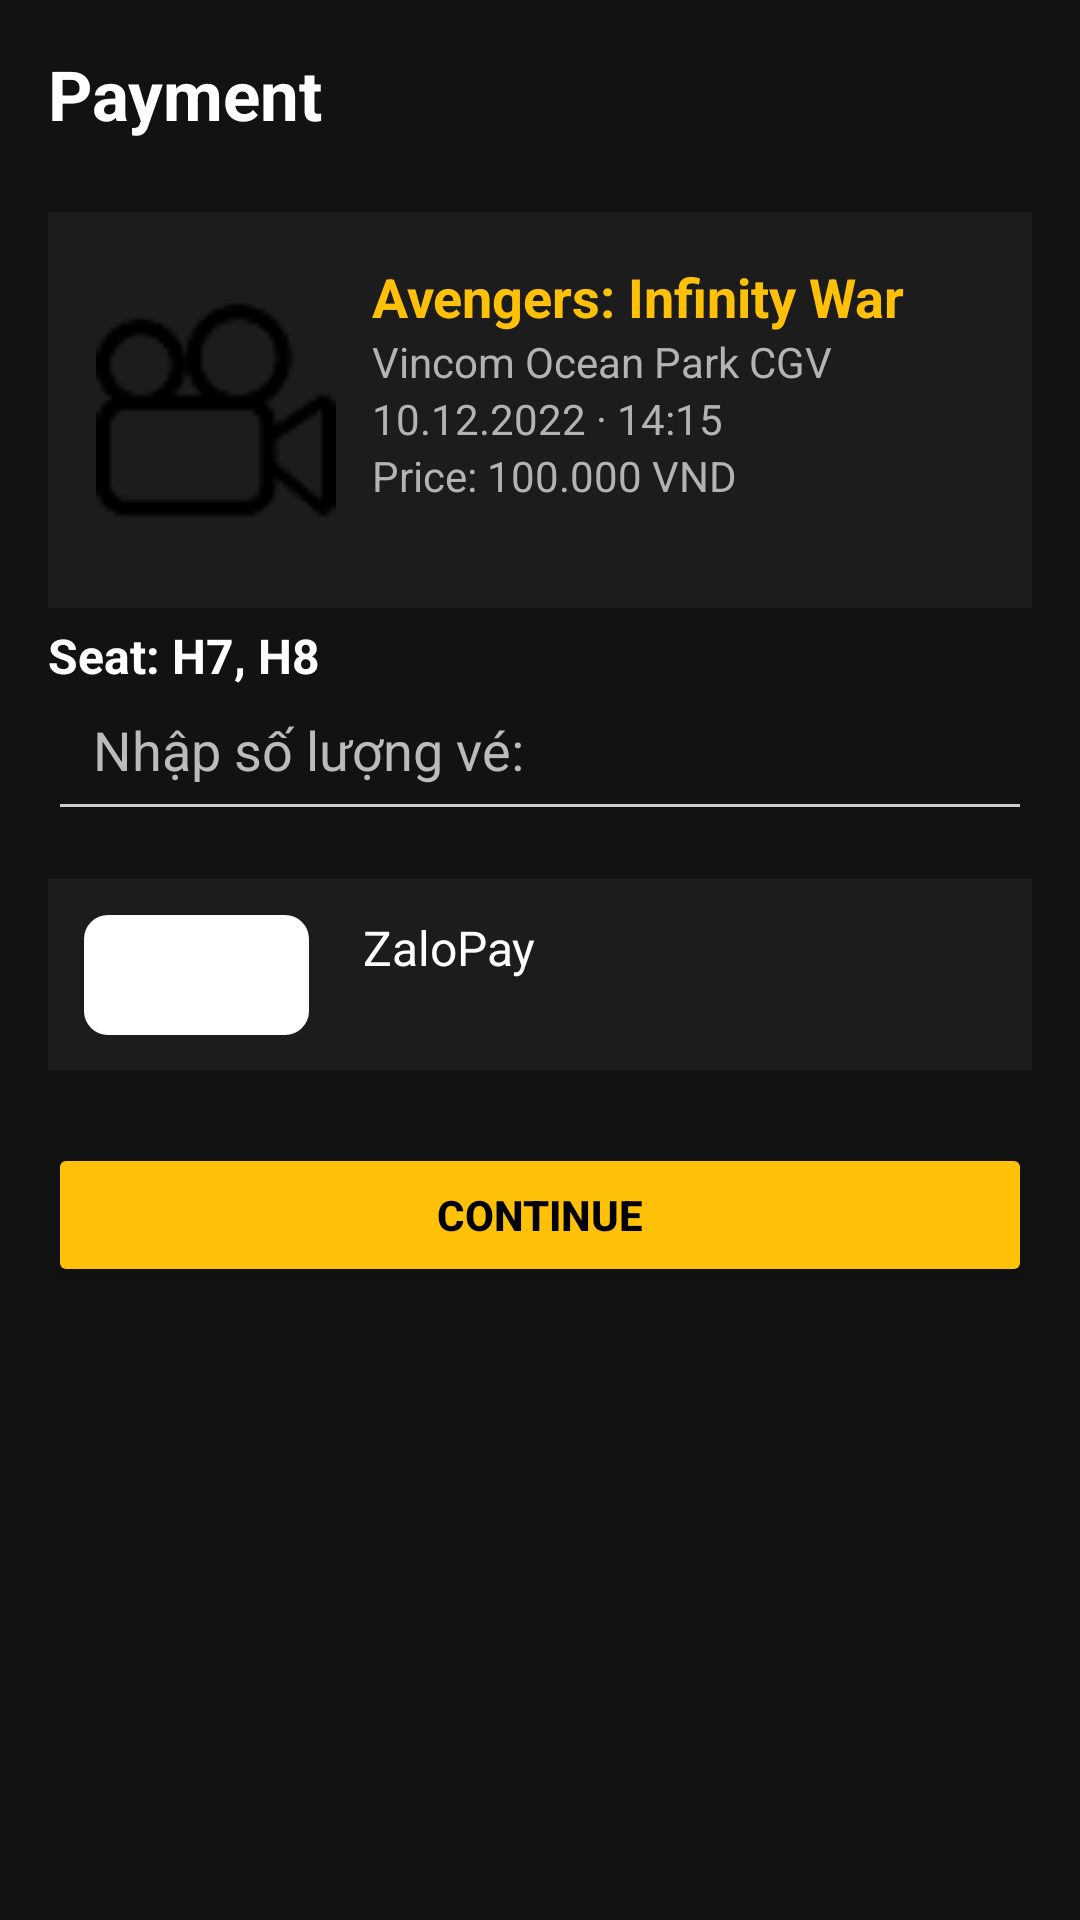

Named icons in this screenshot (1080x1920) and their centers, [x,y]:
movie: [216,410]
